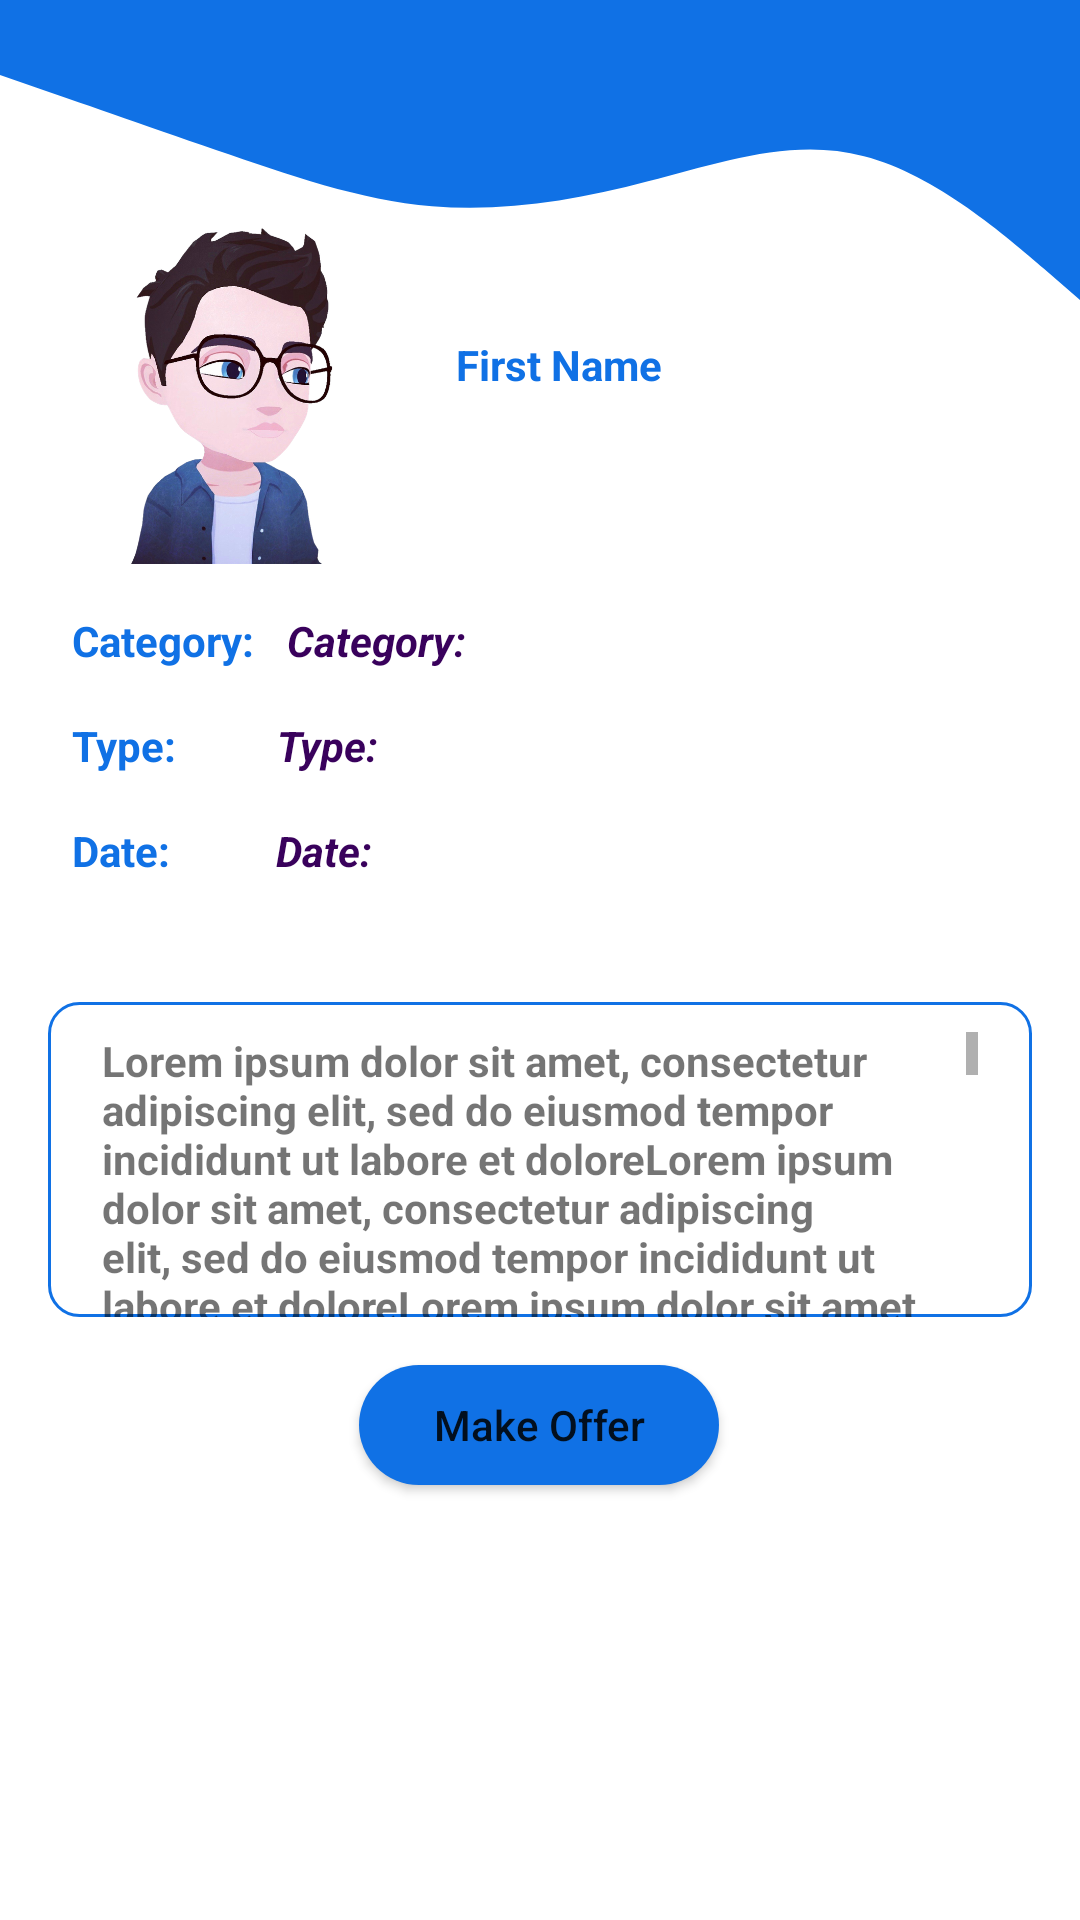

Icon click points for this 1080 × 1920 phone screenshot, format [x,y]:
male: [231,396]
